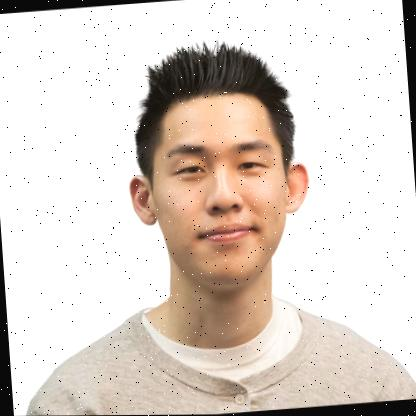person: (117, 34, 323, 308)
